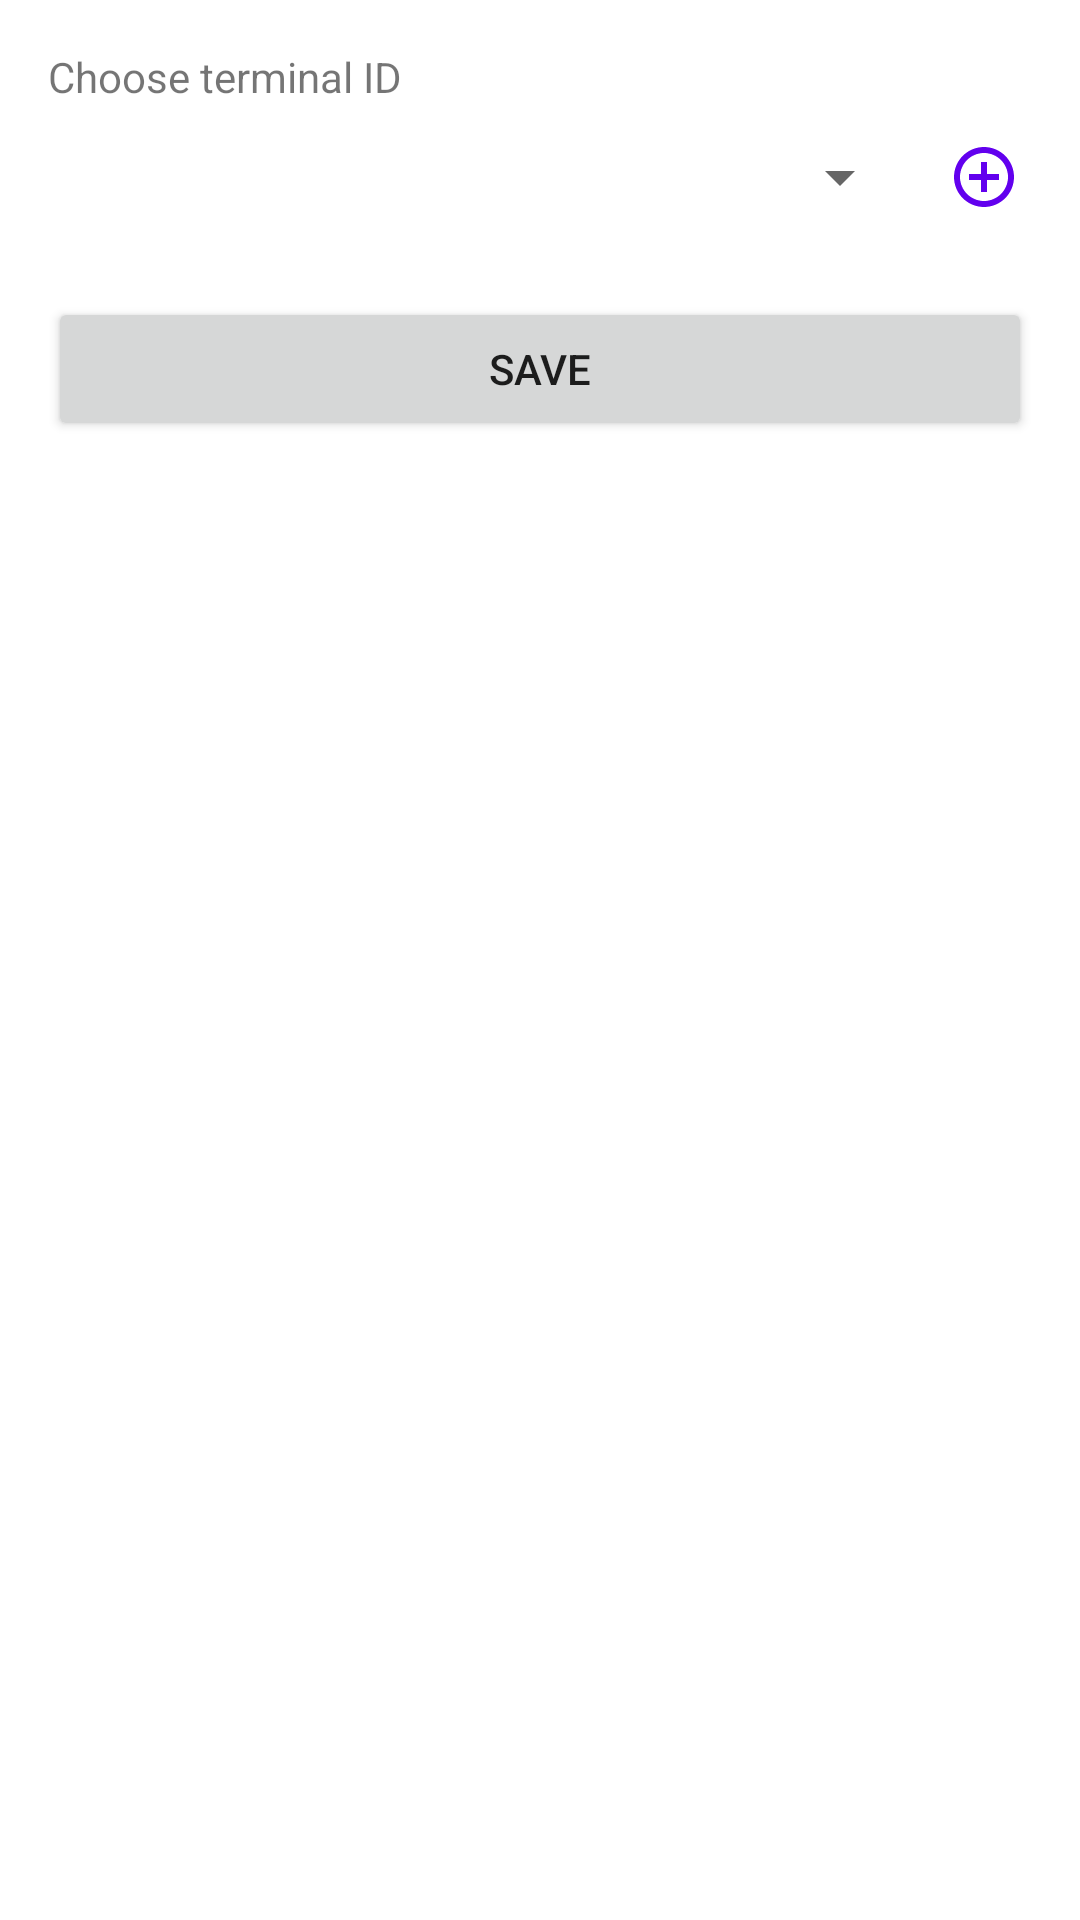

Named icons in this screenshot (1080px x 1920px) and their centers, point (x, y):
add: point (984, 177)
